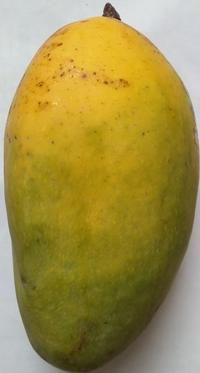PartiallyRipe: (1, 1, 200, 373)
